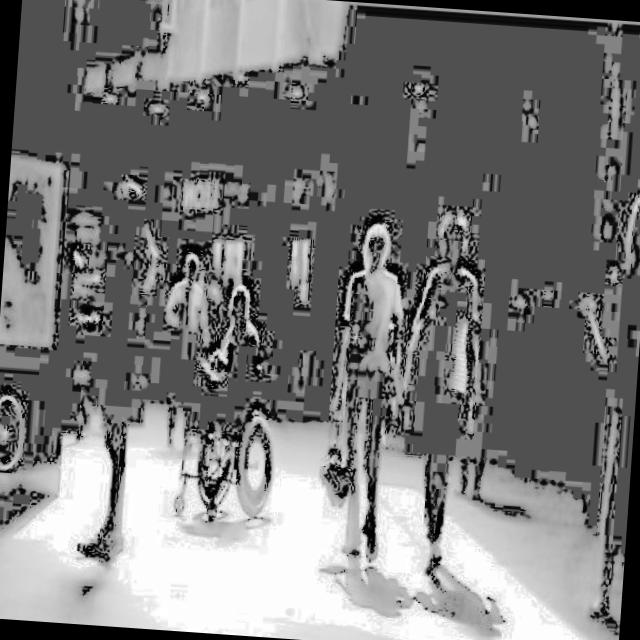Person: (390, 206, 492, 585), (317, 217, 414, 565)
